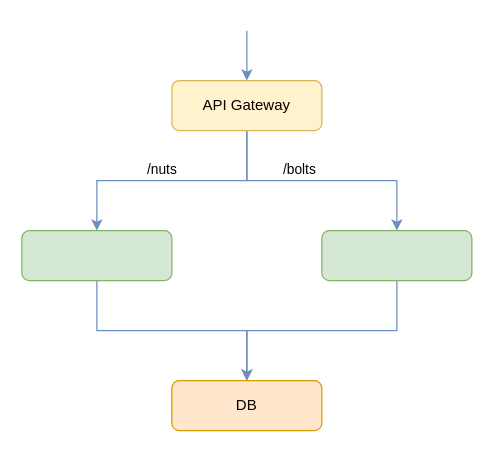
The diagram is 494 pixels wide and 453 high, and some of its shapes have lost their labels. Here are the shapes that lost their labels. From the top down, the centre of each, then its label:
point (96, 255): nuts
point (396, 255): bolts
